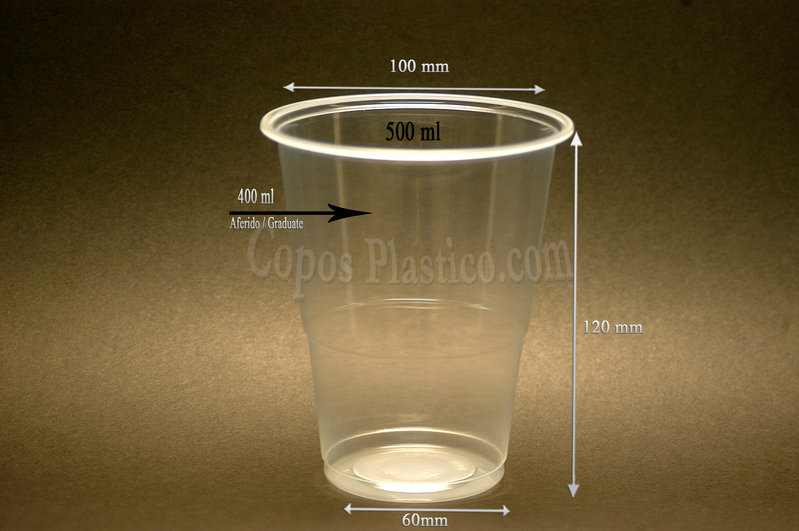plastic_glass: (254, 87, 578, 509)
